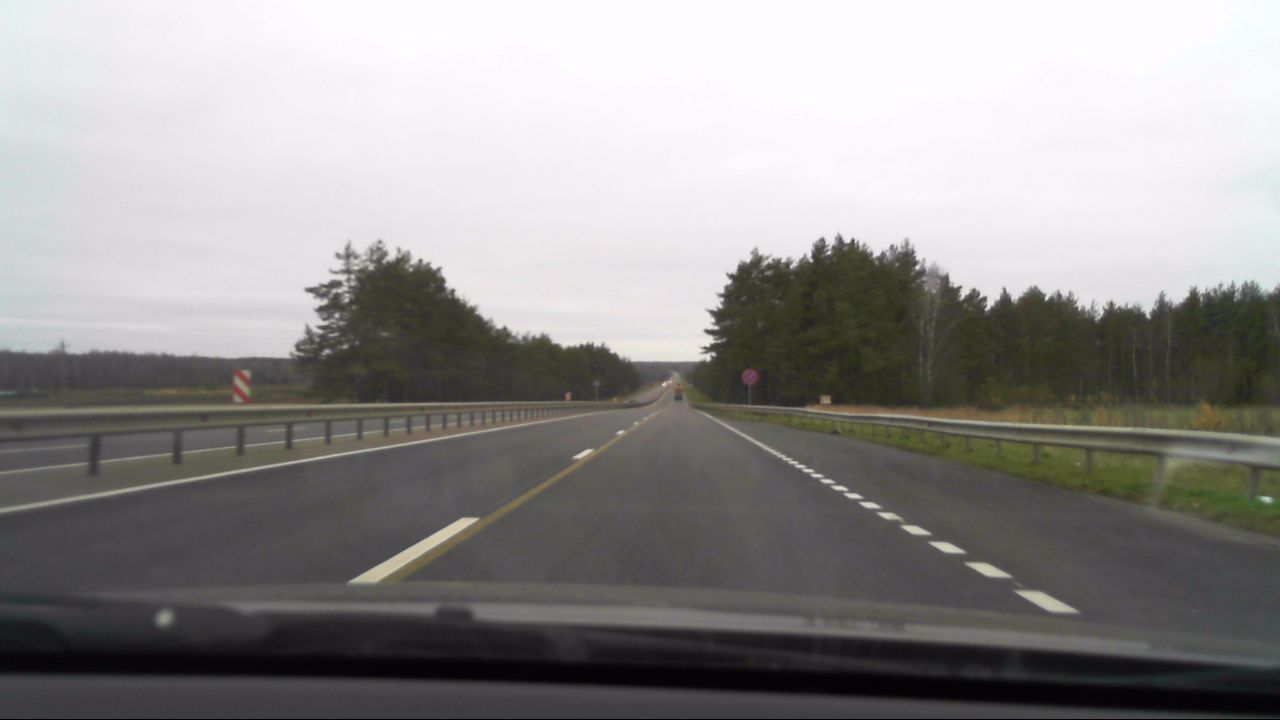No Parking: (739, 366, 759, 387)
